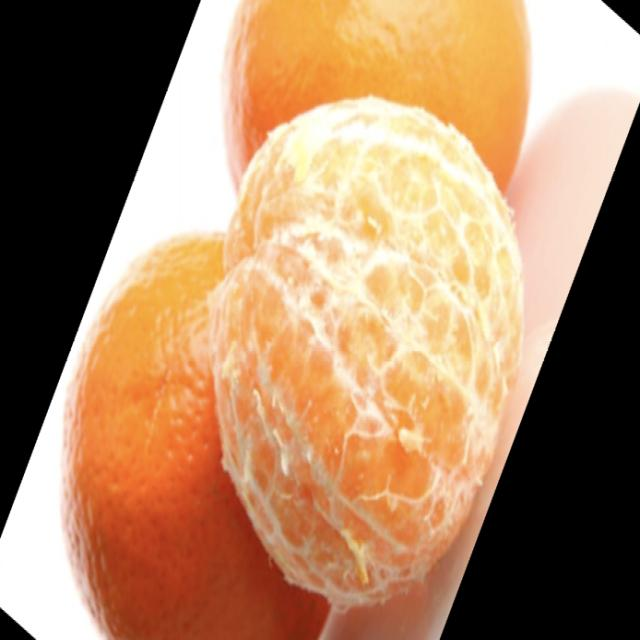fresh: (50, 1, 569, 640)
